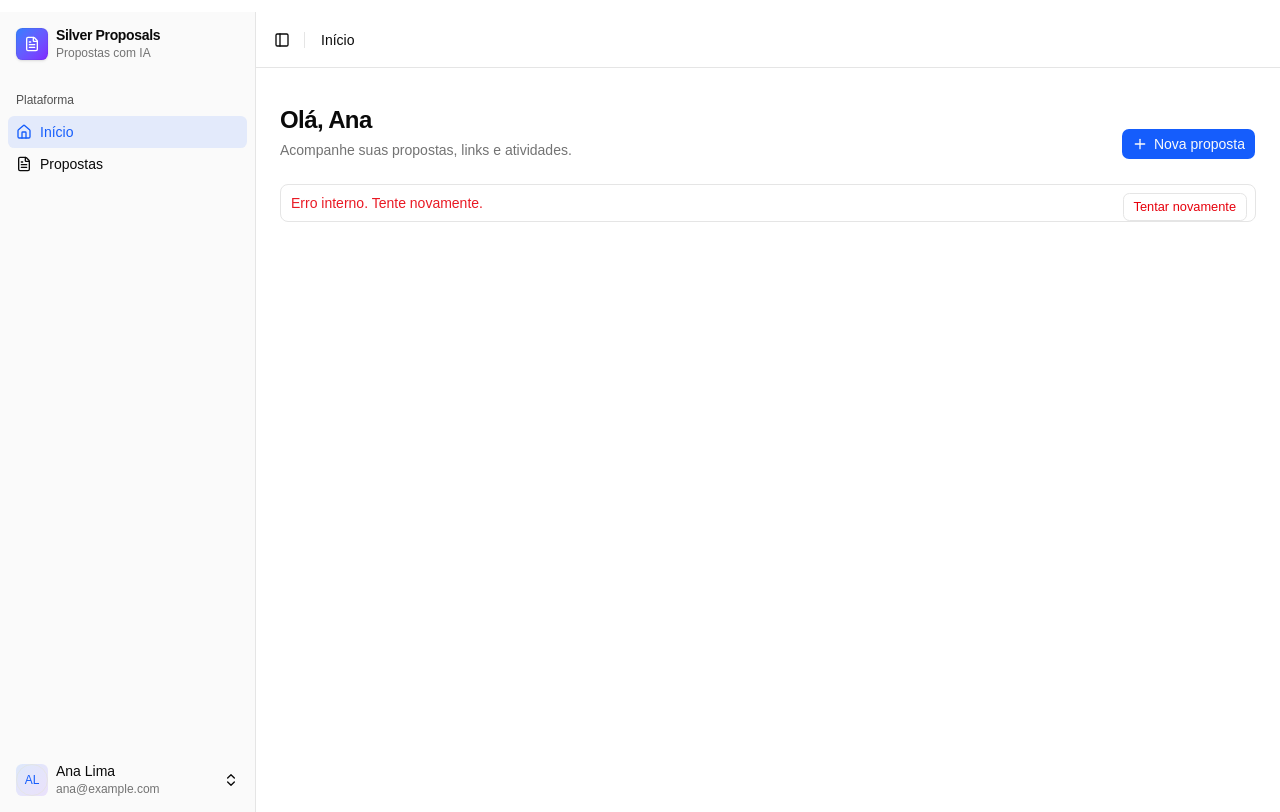
Scenario: HomePage › shows request errors and reloads the dashboard
expect the text "Erro interno. Tente novamente." is shown: met, box [291, 195, 483, 211]
Click the button "Tentar novamente". click: {"x": 1185, "y": 207}
box: [1123, 193, 1247, 221]
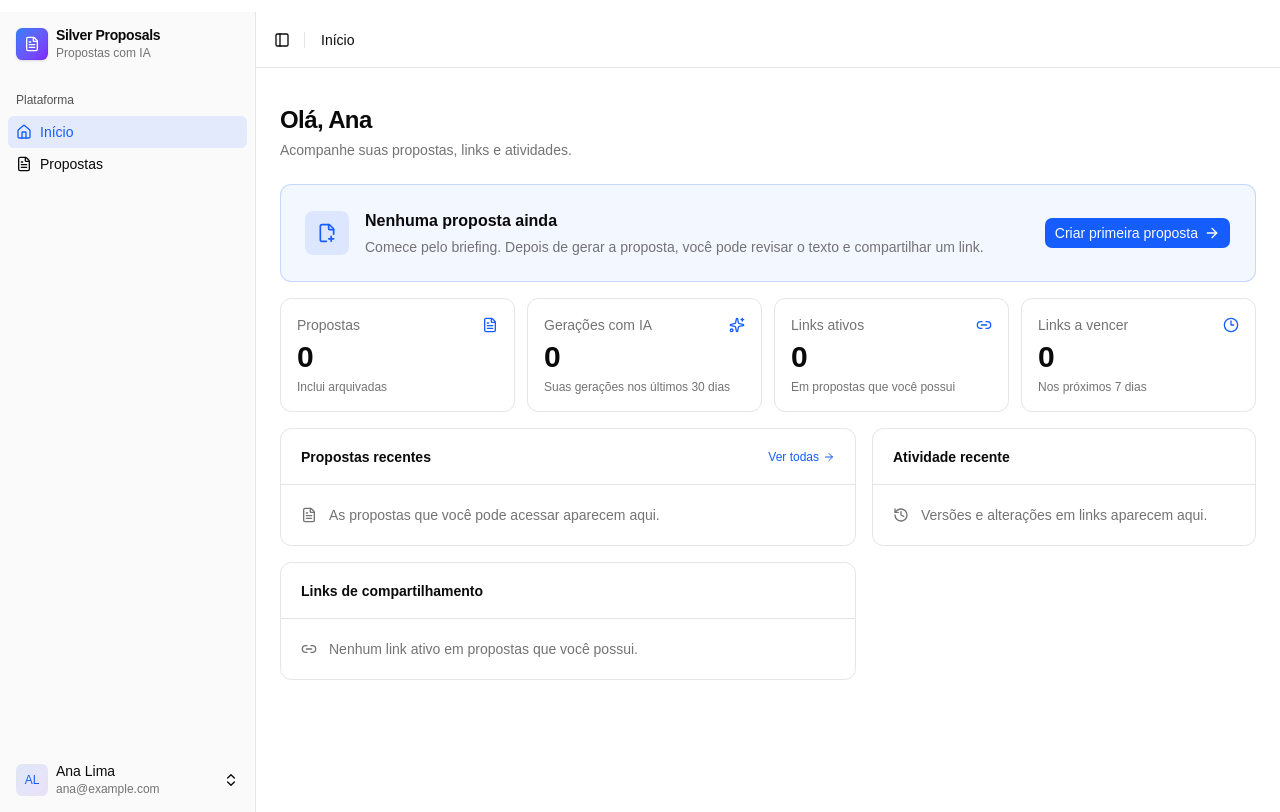
expect the heading "Nenhuma proposta ainda" is shown: met, box [365, 212, 557, 229]
